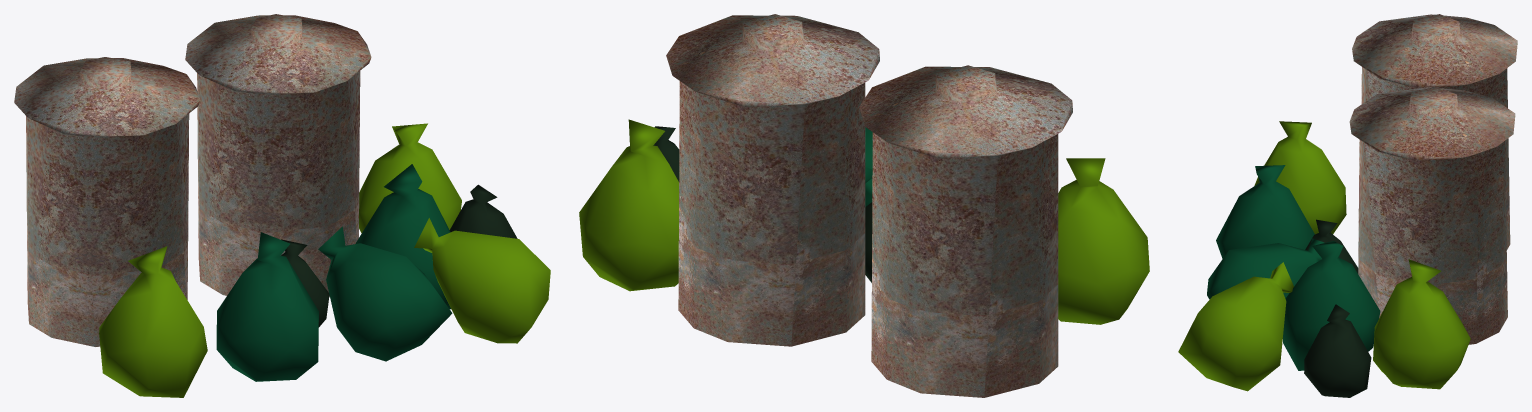
The model's file is Trash 1.fbx.
The picture shows the model from 3 angles, left to right: view 1: azimuth 30°, elevation 25°; view 2: azimuth 150°, elevation 25°; view 3: azimuth 270°, elevation 25°; orthographic projection. The views are drawn at different scales.
Parts seen in each view (by area): view 1: Cylinder.001; view 2: Cylinder.001; view 3: Cylinder.001.
Boxes of the visible parts, x1,y1,x2,y2 form: Cylinder.001: (14, 14, 550, 397); Cylinder.001: (579, 14, 1149, 397); Cylinder.001: (1178, 14, 1517, 397).
Size of the model in its own units: 433 by 250 by 324.
